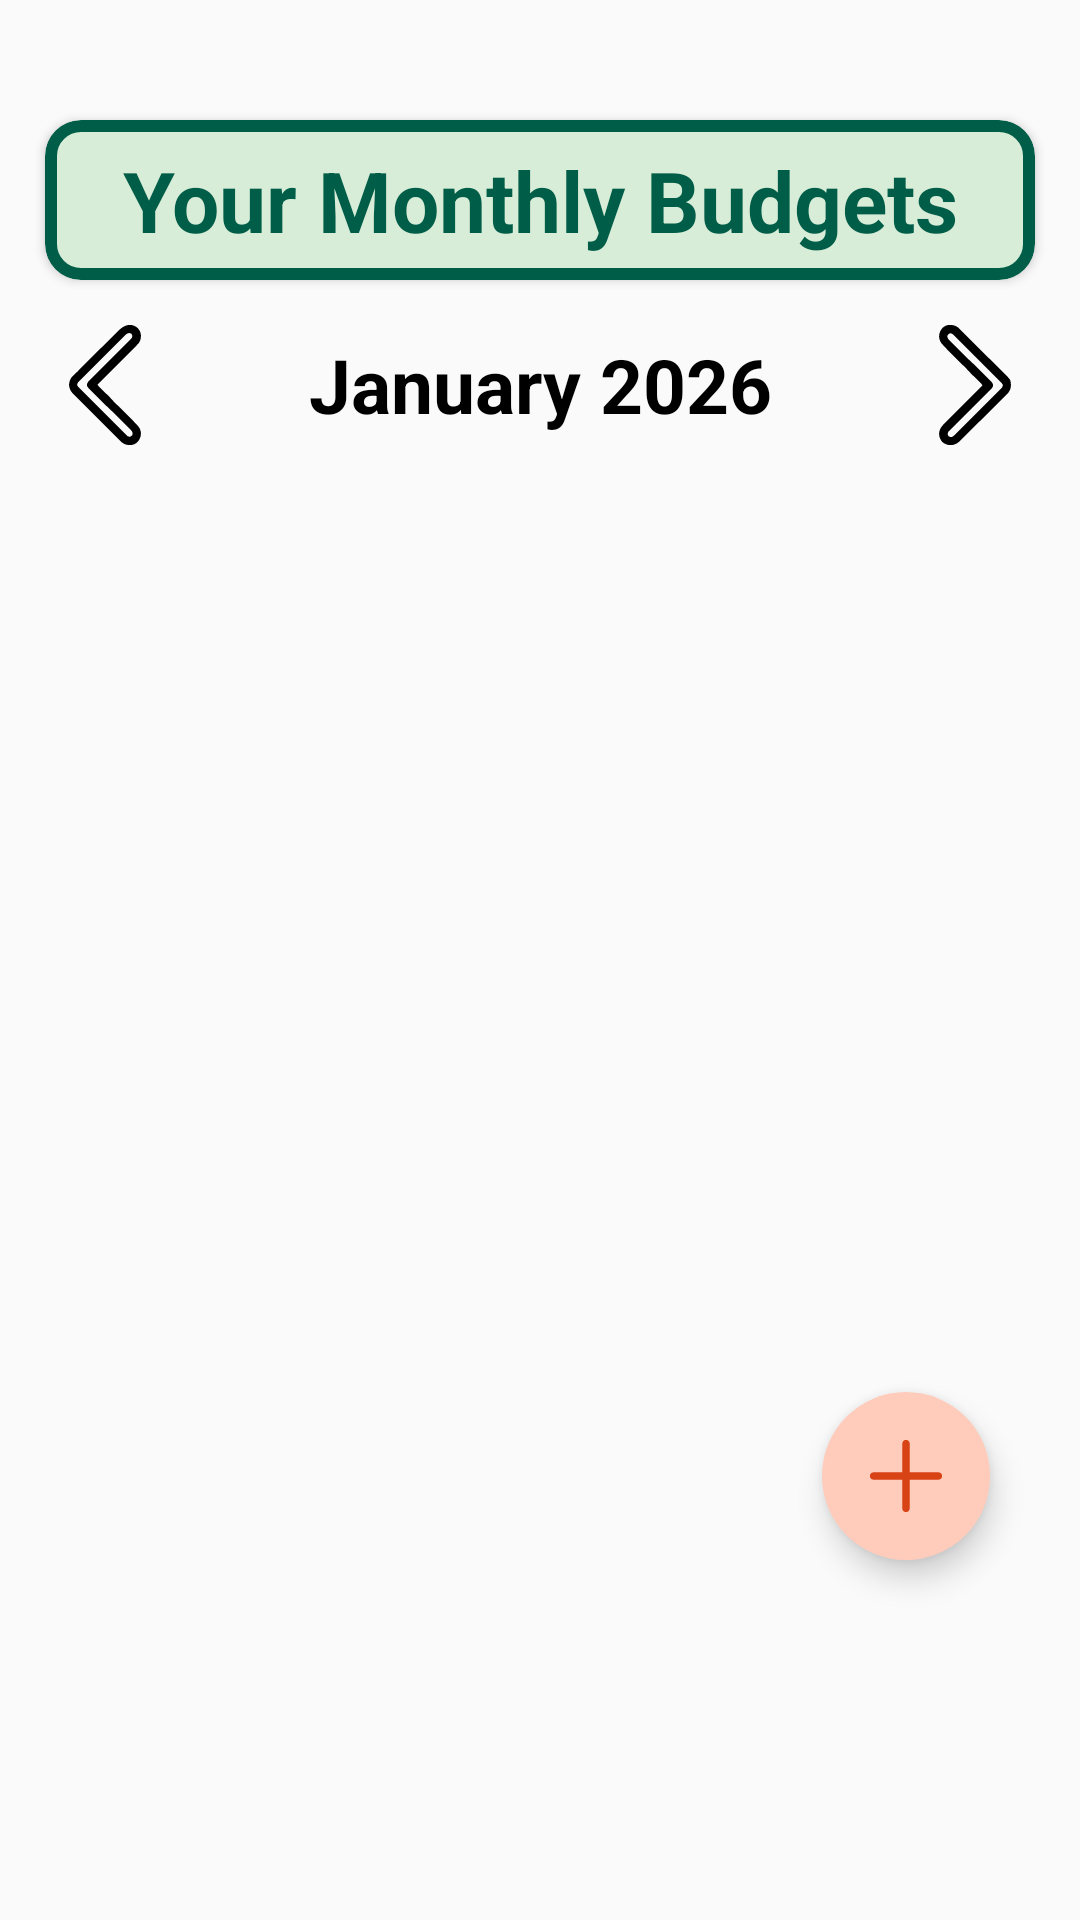

Locate icon controls on the screen. Image size 1080 x 1920, boxes as [x1, y1, x2, y2].
next: [939, 325, 1011, 445]
plus: [822, 1392, 990, 1560]
previous: [69, 325, 141, 445]
